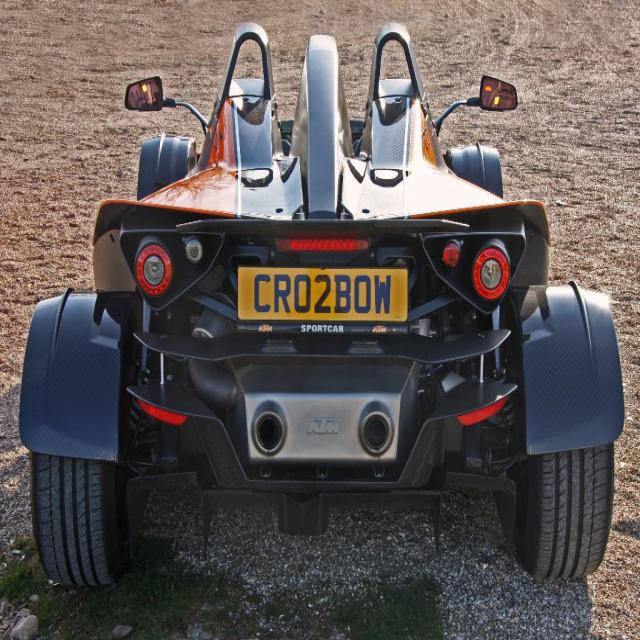car: (19, 19, 624, 587)
